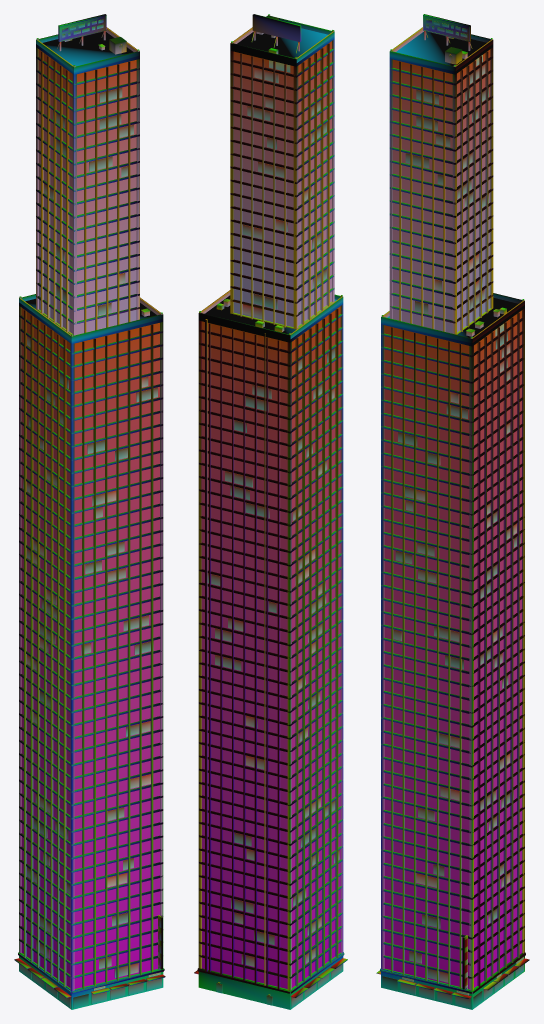
The model's file is Tower_Mast_V8.fbx.
3 views of the same model, side by side, from view 1: azimuth 30°, elevation 25°; view 2: azimuth 150°, elevation 25°; view 3: azimuth 330°, elevation 25° (orthographic).
Visible parts, largest first — view 1: Tower_Mast_V8_LOD0; view 2: Tower_Mast_V8_LOD0; view 3: Tower_Mast_V8_LOD0.
Part boxes in pixels (<box>): Tower_Mast_V8_LOD0: <box>14,14,165,1009</box>; Tower_Mast_V8_LOD0: <box>194,14,347,1009</box>; Tower_Mast_V8_LOD0: <box>376,14,529,1009</box>.
Size of what is drawn, in the model's own units: 28.8 by 260 by 28.31.
